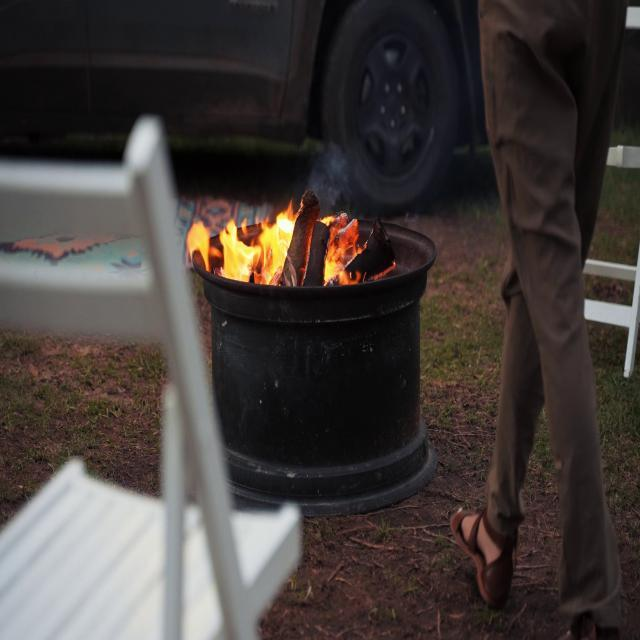Fire: (190, 184, 372, 284)
